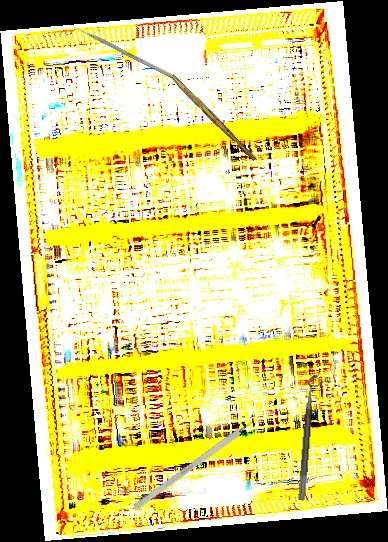Fixation Ring: (297, 373, 327, 502)
Hook Surgical: (132, 410, 268, 511)
Pusher: (66, 21, 174, 79)
Scalpel Handle: (167, 74, 259, 162)
